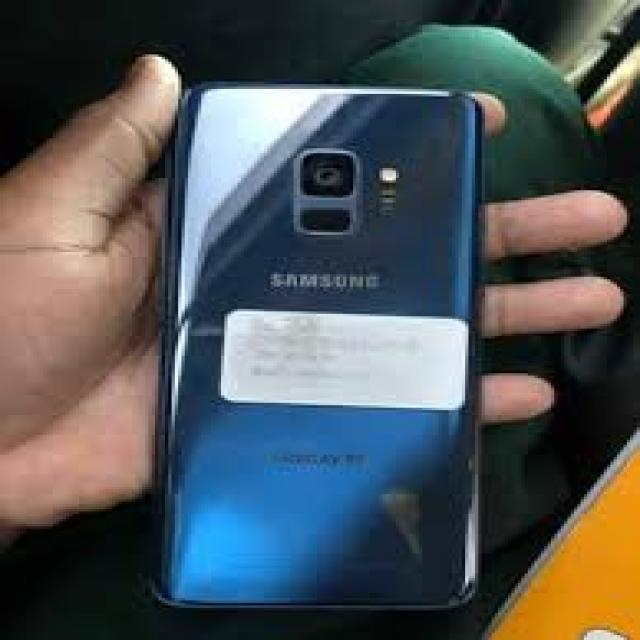mobile phone: (148, 79, 485, 610)
